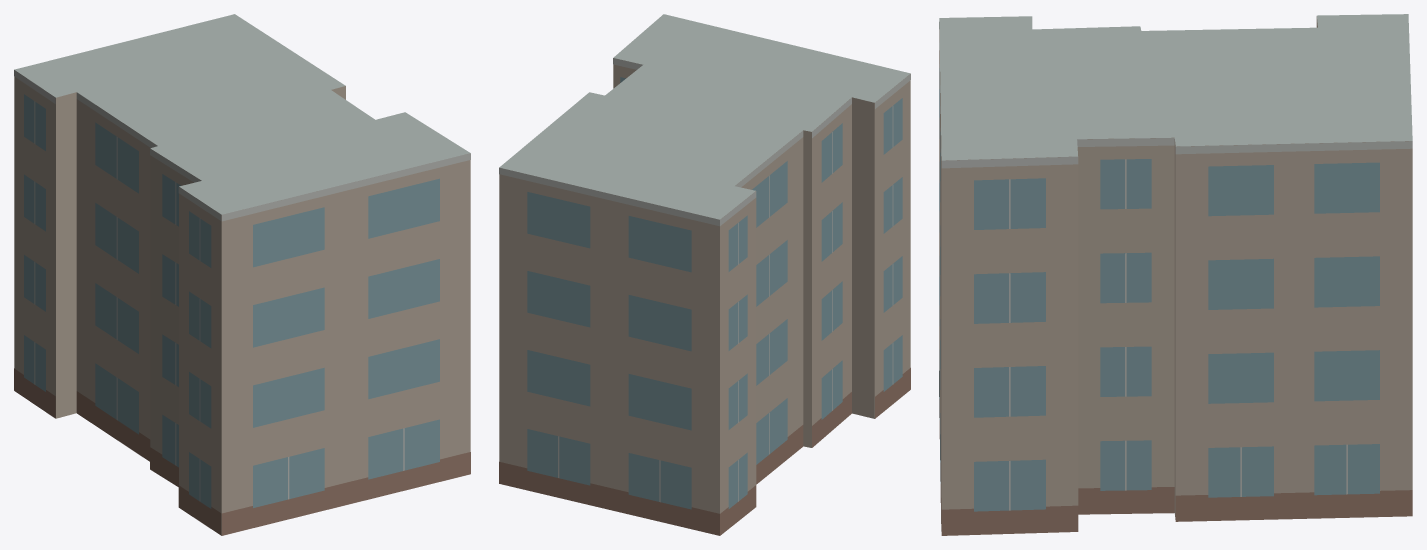
File: survey-upis-32752975.glb
3 renders of one model, left to right at view 1: azimuth 30°, elevation 25°; view 2: azimuth 150°, elevation 25°; view 3: azimuth 270°, elevation 25°, orthographic. The views are drawn at different scales.
Parts seen in each view (by area): view 1: survey-upis-32752975.tmp; view 2: survey-upis-32752975.tmp; view 3: survey-upis-32752975.tmp.
Part boxes in pixels (box(x1,y1,x2,y2)): survey-upis-32752975.tmp: box(14, 14, 470, 535); survey-upis-32752975.tmp: box(499, 14, 910, 535); survey-upis-32752975.tmp: box(939, 14, 1412, 535).
Bounding box in the file's own units: 9.81 × 11.7 × 13.39.
